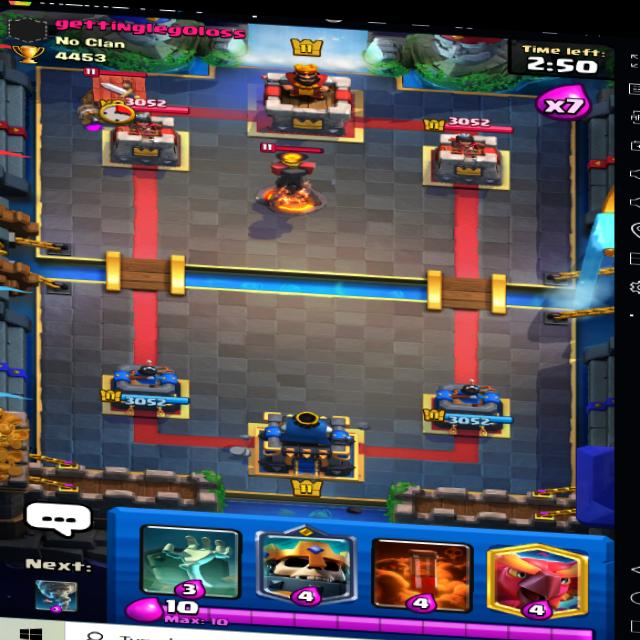barbarian-hut: (78, 63, 154, 129)
inferno-tower: (250, 139, 332, 214)
